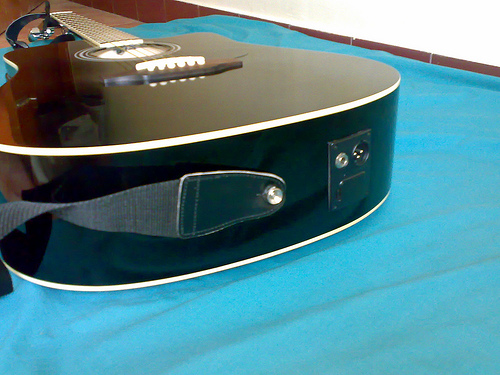guitar: (1, 1, 406, 296)
